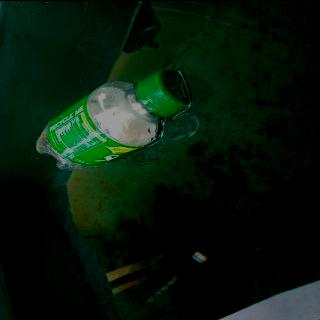bottle: (32, 65, 195, 172)
